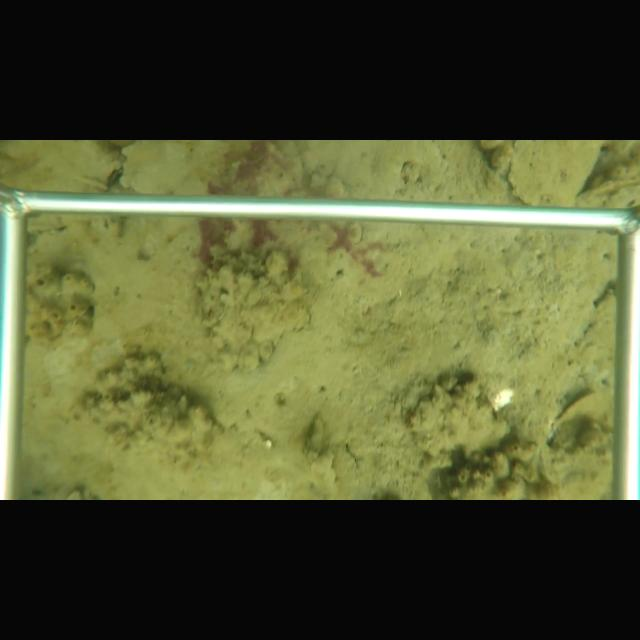Oyster-Closed: (407, 371, 513, 456), (502, 141, 607, 207), (552, 389, 612, 427)
